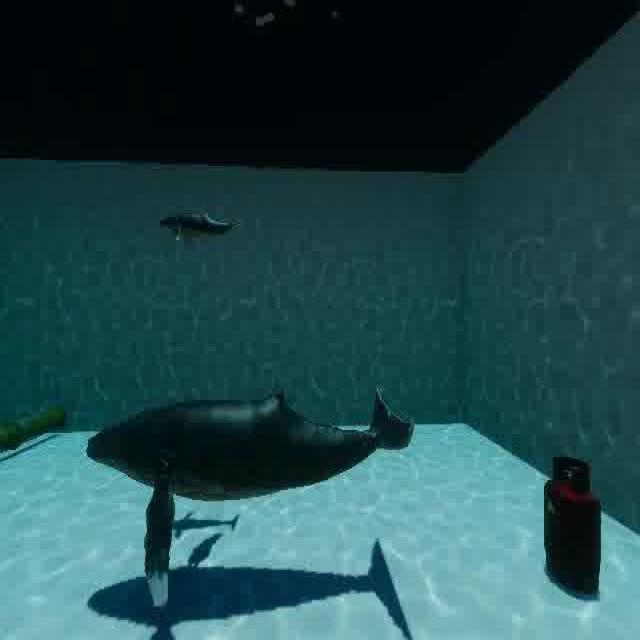Cylinder: (530, 439, 618, 613)
Pipe: (0, 384, 72, 460)
Whale: (82, 370, 424, 615), (150, 196, 246, 255)
